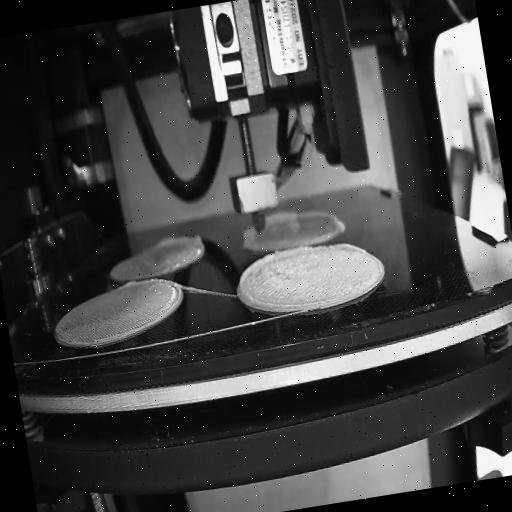over_extrusion: (234, 248, 288, 316), (156, 230, 204, 256), (262, 209, 306, 231), (334, 234, 368, 262), (241, 222, 257, 245), (117, 276, 140, 292)
